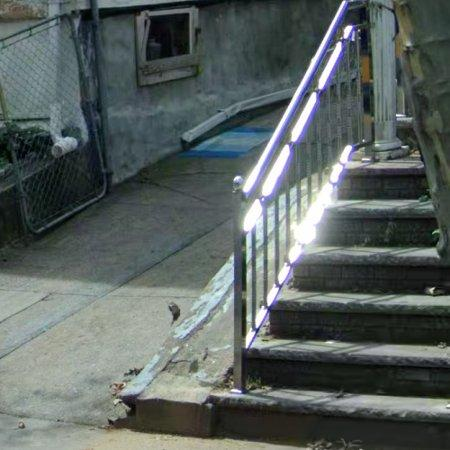stairs: (208, 152, 450, 450)
